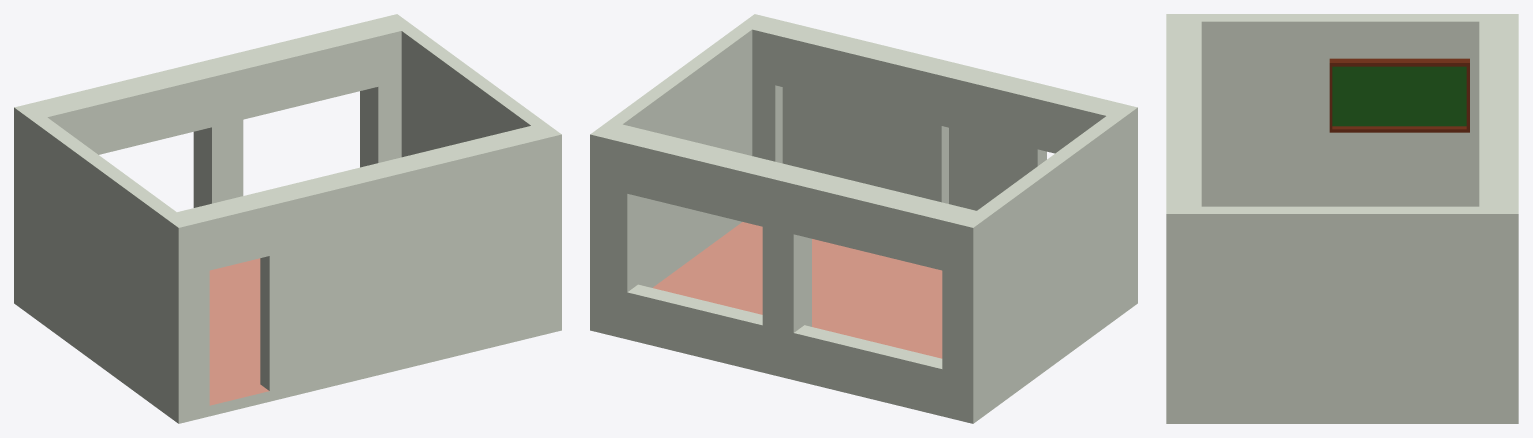
The model's file is museo2.glb.
3 renders of one model, left to right at view 1: azimuth 30°, elevation 25°; view 2: azimuth 150°, elevation 25°; view 3: azimuth 270°, elevation 25°, orthographic. The views are drawn at different scales.
Visible parts, largest first — view 1: Cube; view 2: Cube; view 3: Cube, Cube.001.
Part boxes in pixels (bbox=[...]): Cube: bbox=[14, 14, 561, 423]; Cube: bbox=[590, 14, 1137, 423]; Cube: bbox=[1166, 14, 1518, 423]; Cube.001: bbox=[1329, 58, 1469, 132].
Bounding box in the file's own units: 8.05 × 3.94 × 5.99.
